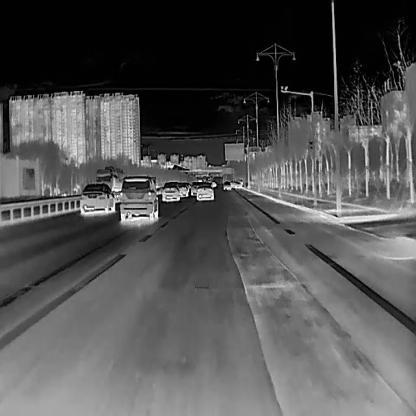car: (119, 176, 158, 220), (78, 183, 115, 214), (95, 166, 123, 191), (161, 181, 180, 201), (196, 182, 213, 201), (178, 183, 189, 197), (222, 180, 231, 190)
